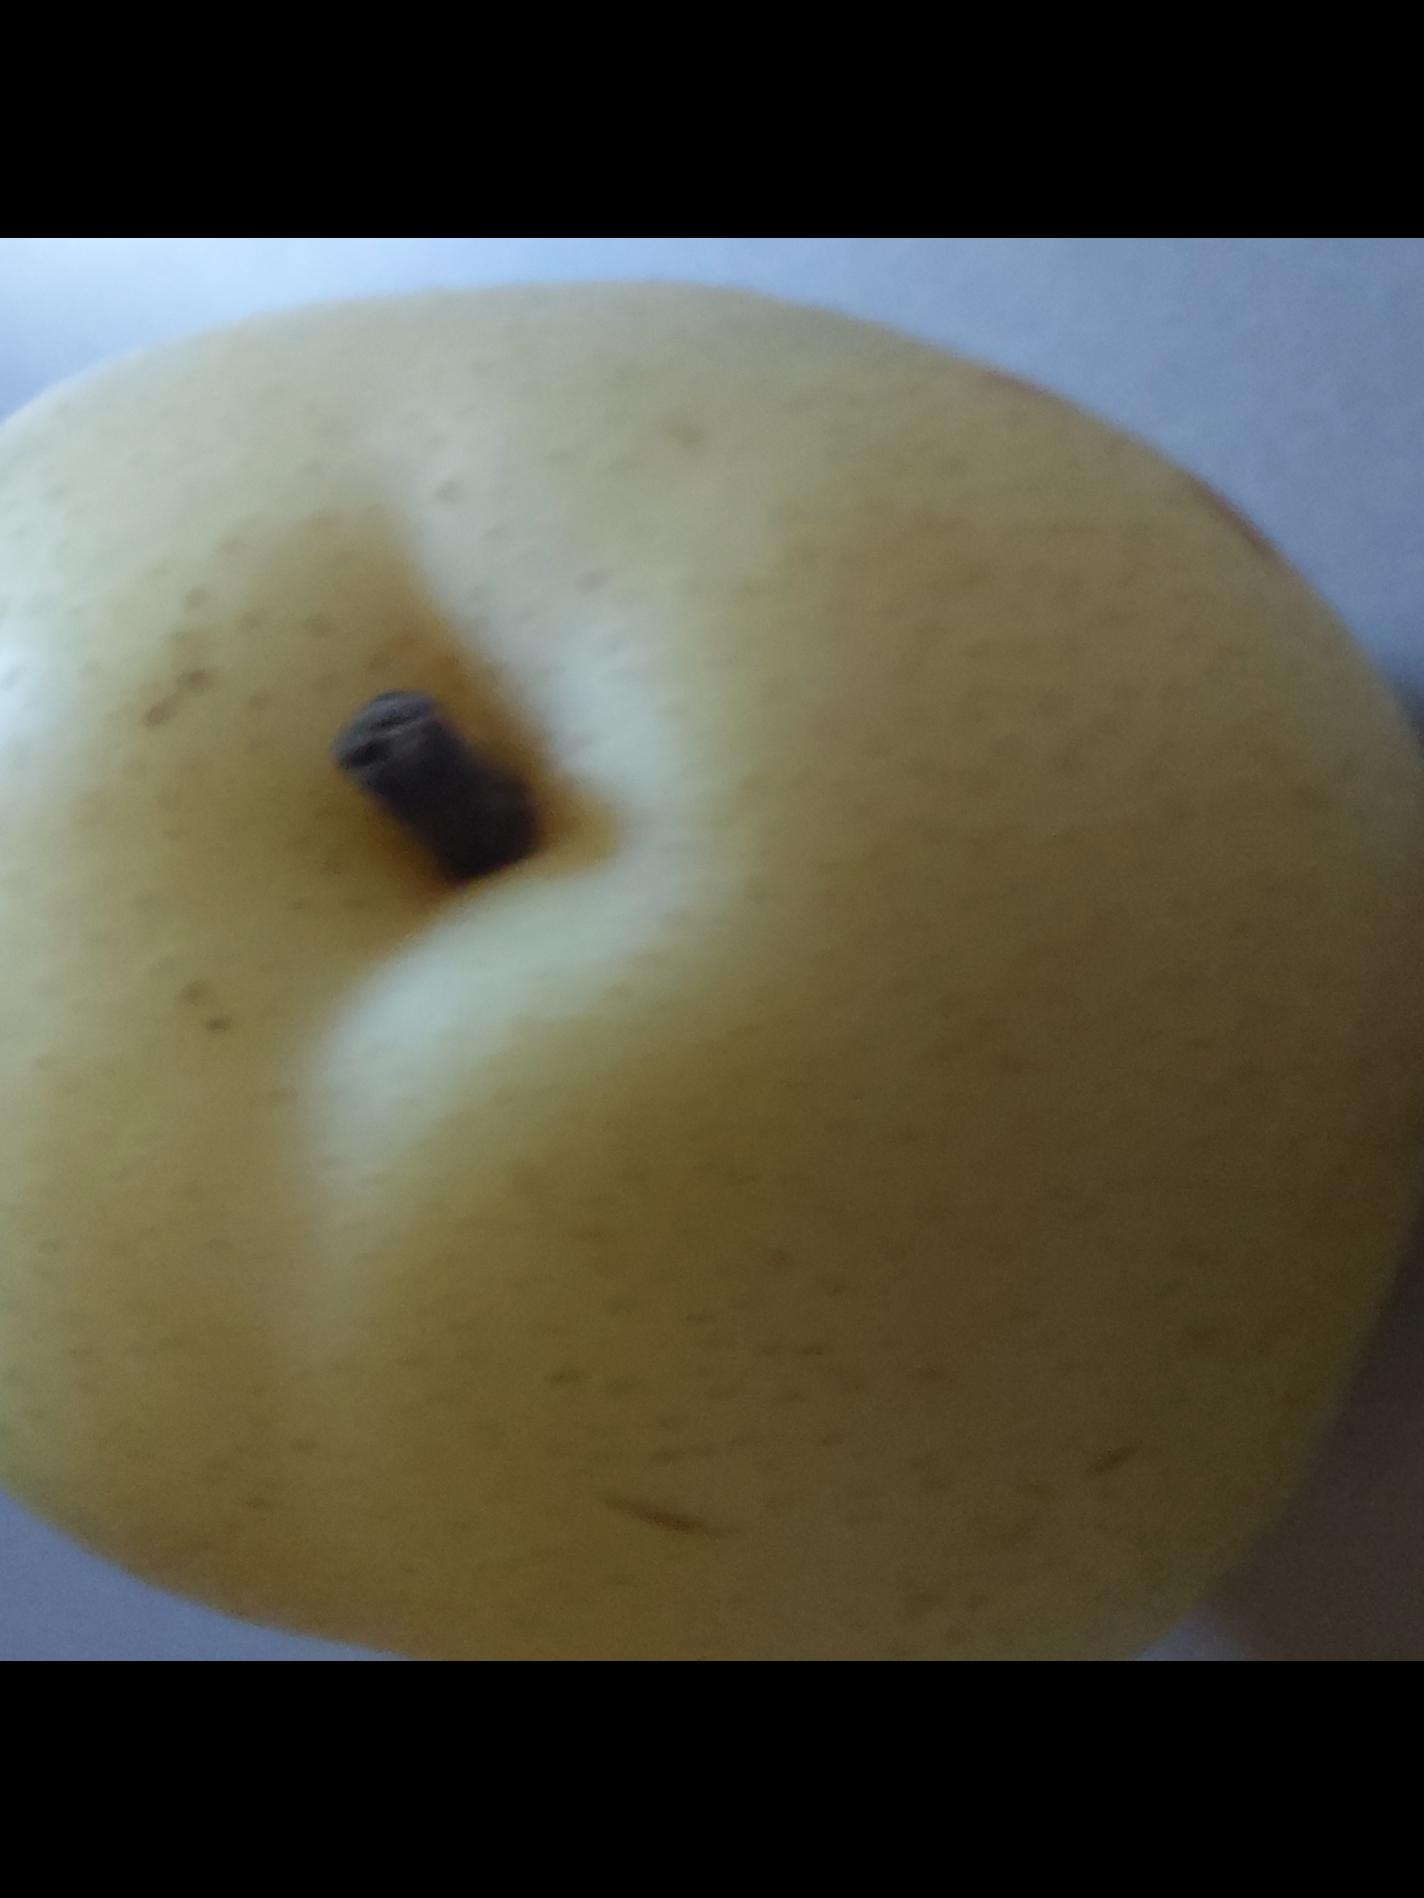Good Pear: (0, 236, 1424, 1653)
